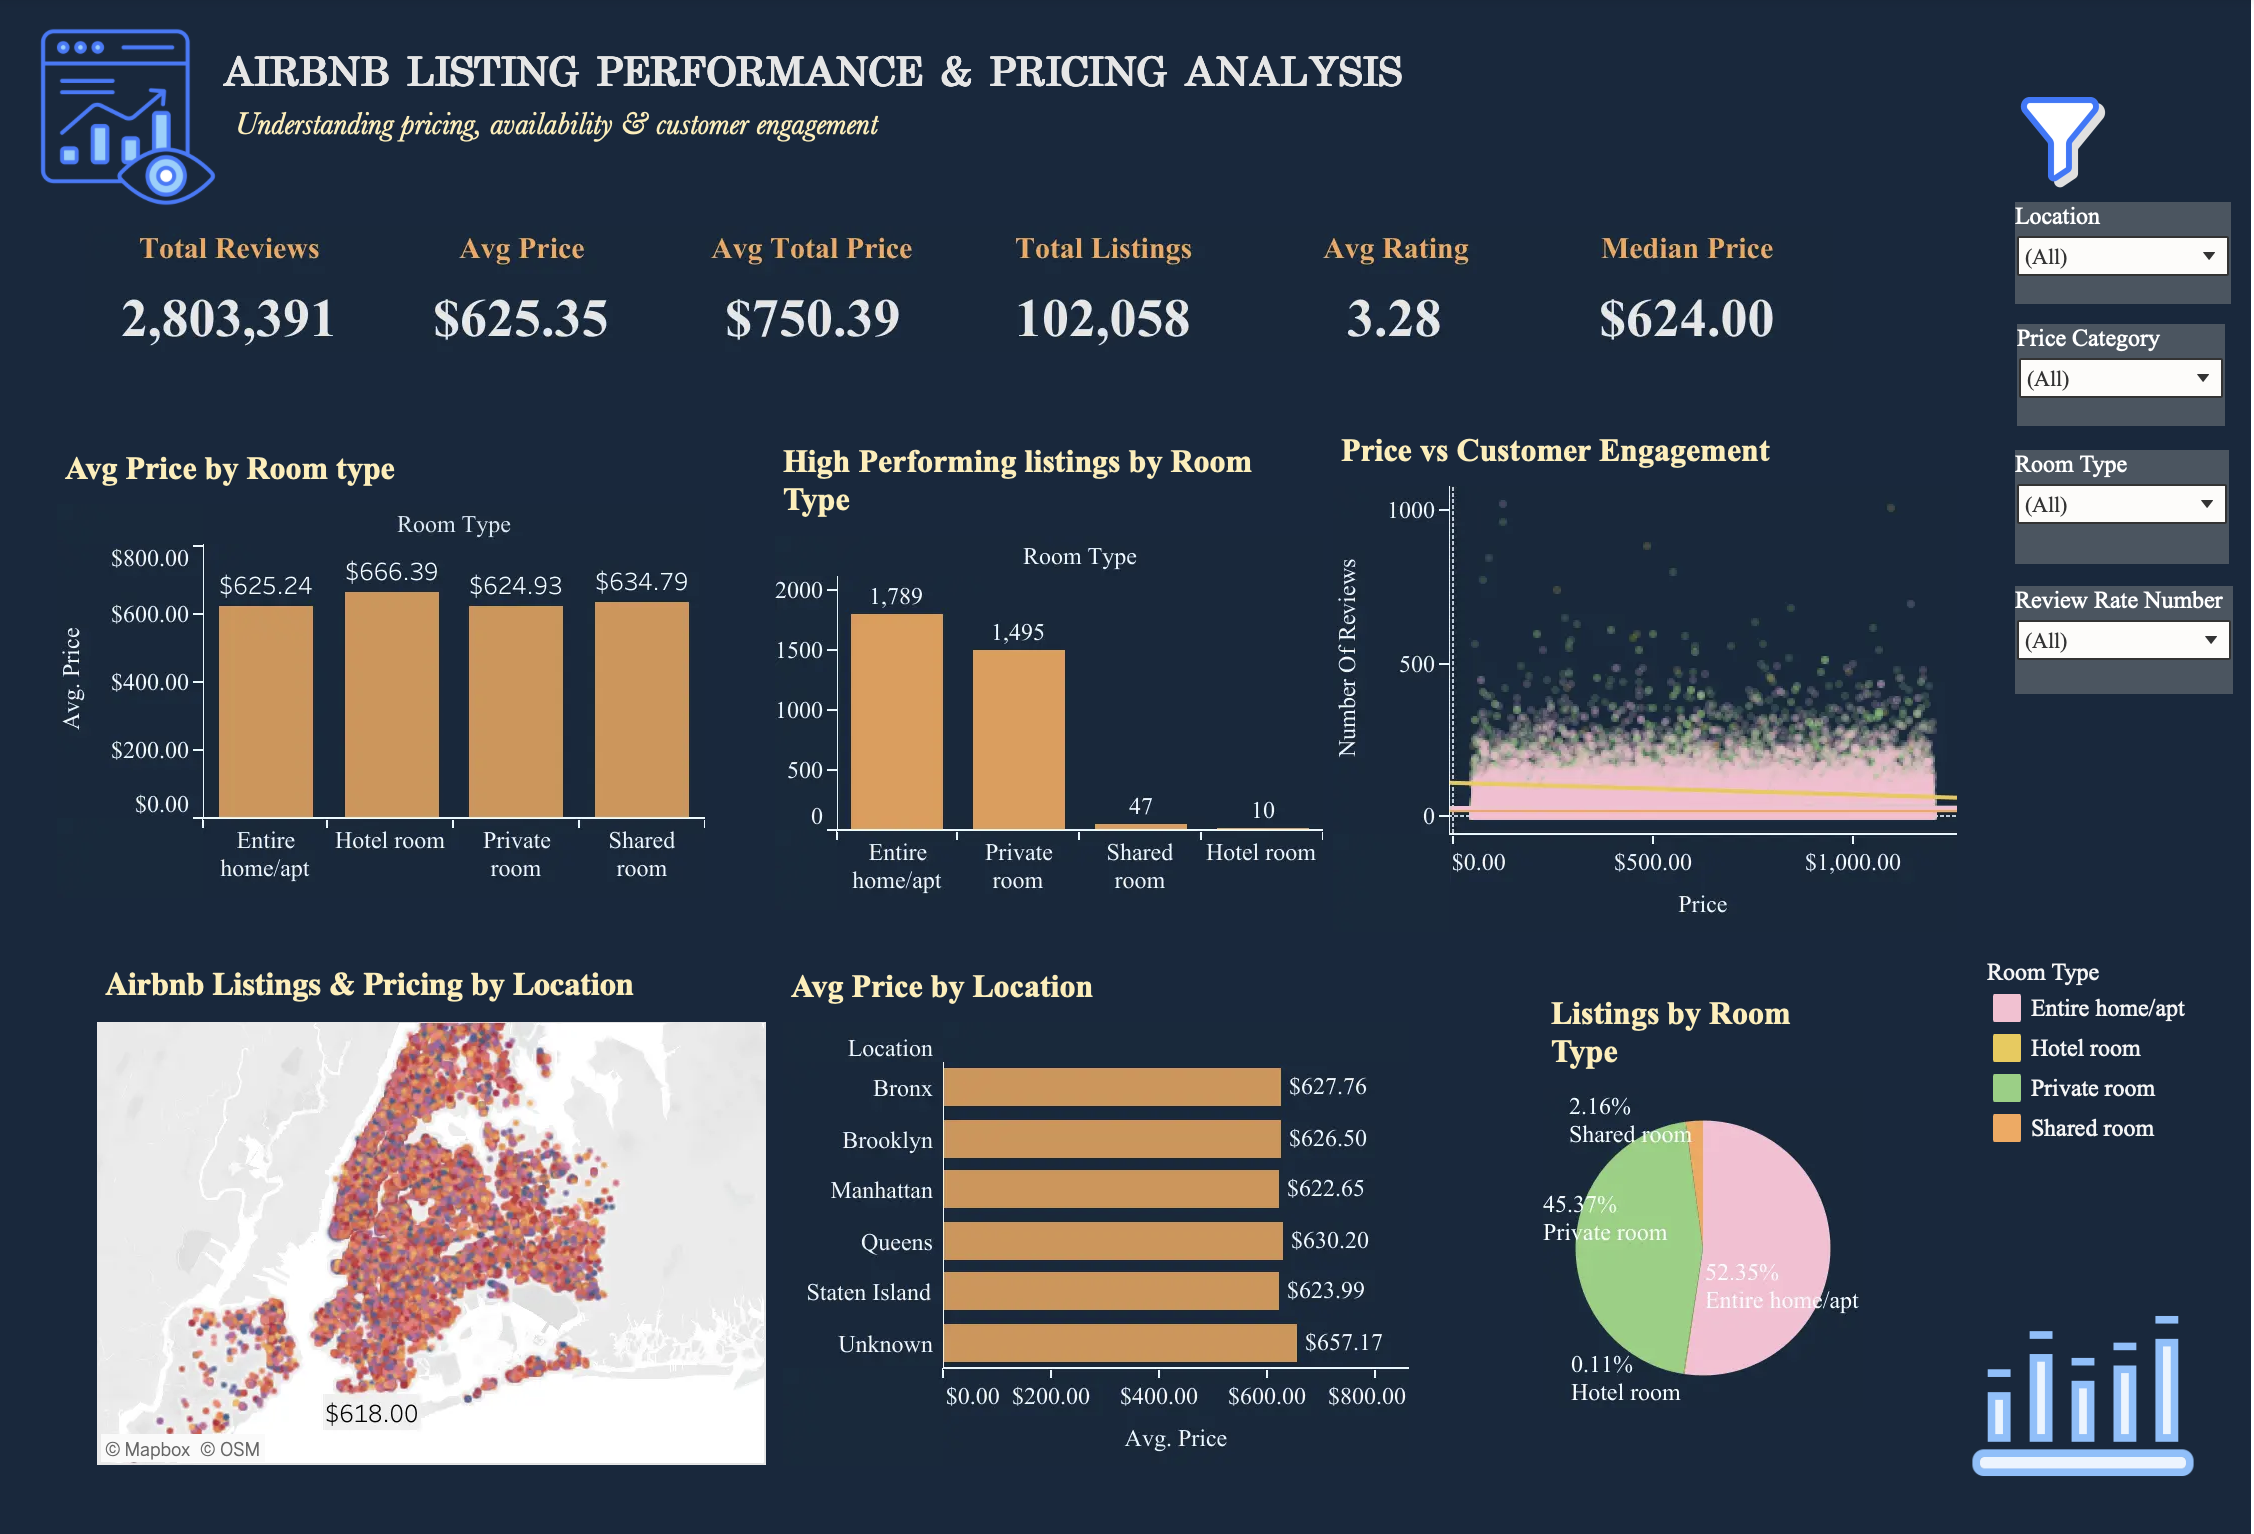

This screenshot's page, from the dashboard's own definition file:
{"tool":"tableau","page":{"name":"Dashboard 1","canvas":[1150,800],"ordinal":0},"visuals":[{"type":"image","param":"/Users/khushibaliyan/Downloads/data-monitoring.png","box":[31,34,91,102]},{"type":"title","box":[124,40,633,38]},{"type":"text","box":[130,55,708,38]},{"type":"image","param":"/Users/khushibaliyan/Downloads/filter.png","box":[1014,62,60,82]},{"type":"worksheet","title":"kpi cards","mark":"Text","box":[51,115,882,86]},{"type":"filter","title":"Sheet 6","param":"[federated.06rg7b600w5v6d1akn1ul171jiiw].[none:Calculation_2803651683315728:nk]","box":[1020,122,108,51]},{"type":"filter","title":"Sheet 6","param":"[federated.06rg7b600w5v6d1akn1ul171jiiw].[none:Calculation_2803651684184081:nk]","box":[1021,183,104,51]},{"type":"worksheet","title":"Sheet 5","mark":"Automatic","rows":["number_of_reviews"],"cols":["price"],"box":[675,226,320,265]},{"type":"worksheet","title":"Sheet 7","mark":"Bar","rows":["Calculation_2803651706363922"],"cols":["room_type"],"box":[396,232,282,248]},{"type":"worksheet","title":"Sheet 2","mark":"Automatic","rows":["price"],"cols":["room_type"],"box":[37,235,333,239]},{"type":"filter","title":"Sheet 6","param":"[federated.06rg7b600w5v6d1akn1ul171jiiw].[none:room_type:nk]","box":[1020,246,107,57]},{"type":"filter","title":"Sheet 6","param":"[federated.06rg7b600w5v6d1akn1ul171jiiw].[none:review_rate_number:ok]","box":[1020,314,109,54]},{"type":"worksheet","title":"map","mark":"Circle","rows":["lat"],"cols":["long"],"box":[57,494,343,264]},{"type":"worksheet","title":"Sheet 3","mark":"Automatic","rows":["Calculation_2803651683315728"],"cols":["price"],"box":[400,494,321,264]},{"type":"legend","title":"Sheet 6","param":"[federated.06rg7b600w5v6d1akn1ul171jiiw].[none:room_type:nk]","box":[1006,500,108,95]},{"type":"worksheet","title":"Sheet 6","mark":"Pie","box":[780,508,339,220]}]}

Visuals, with their boxes in screenshot pixels (x1, y1, x2, y2), scaled from the page's 1150x800 canvas onto the 2254x1534 screenshot:
image: (61,65,239,261)
title: (243,77,1484,150)
text: (255,105,1642,178)
image: (1987,119,2105,276)
"kpi cards" worksheet (Text marks): (100,221,1829,385)
"Sheet 6" filter: (1999,234,2211,332)
"Sheet 6" filter: (2001,351,2205,449)
"Sheet 5" worksheet: (1323,433,1950,941)
"Sheet 7" worksheet (Bar marks): (776,445,1329,920)
"Sheet 2" worksheet: (73,451,725,909)
"Sheet 6" filter: (1999,472,2209,581)
"Sheet 6" filter: (1999,602,2213,706)
"map" worksheet (Circle marks): (112,947,784,1453)
"Sheet 3" worksheet: (784,947,1413,1453)
"Sheet 6" legend: (1972,959,2183,1141)
"Sheet 6" worksheet (Pie marks): (1529,974,2193,1396)
